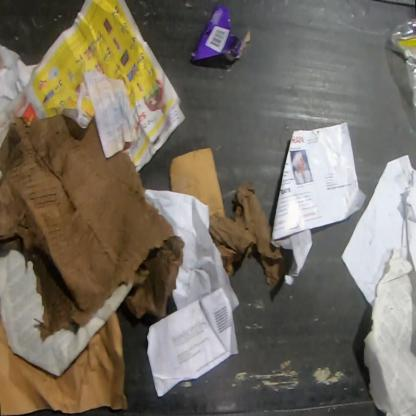cardboard: (0, 114, 185, 342), (170, 147, 287, 289), (0, 310, 128, 416), (191, 4, 251, 64)
rigid_plastic: (386, 19, 415, 111)
